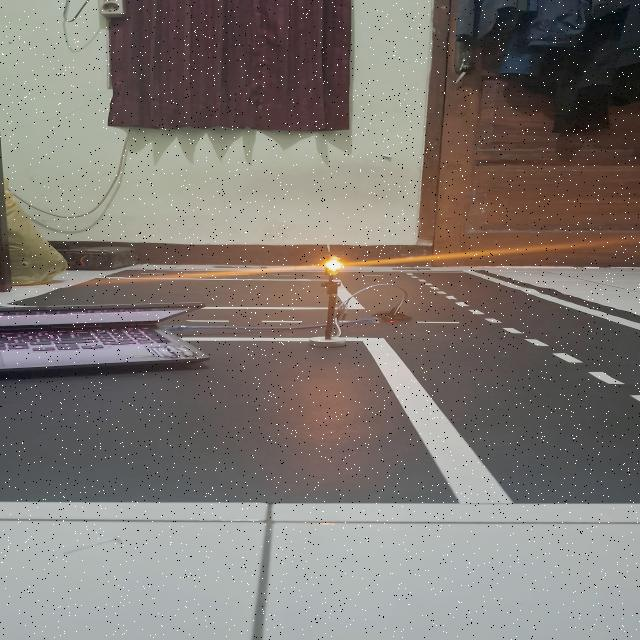Lampu Kuning: (326, 254, 342, 276)
